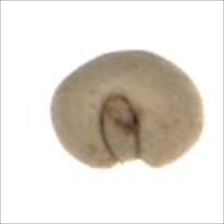L5: (97, 91, 143, 164)
L6: (48, 48, 206, 172)
